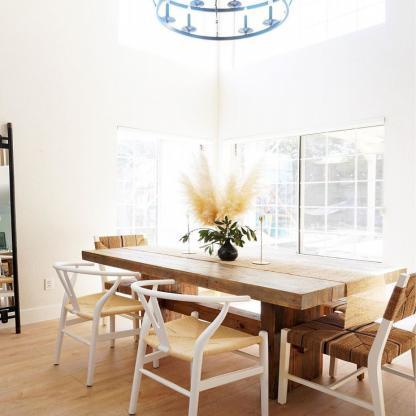chair: (128, 260, 272, 416), (278, 263, 416, 416), (47, 249, 141, 386), (90, 224, 156, 343)
light: (154, 0, 305, 45)
table: (78, 242, 416, 406)
